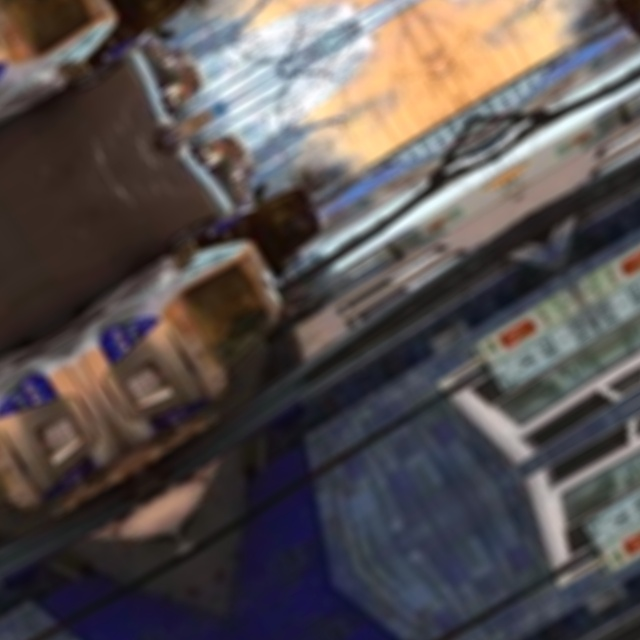ISA: (501, 319, 536, 347), (621, 247, 640, 275), (624, 525, 640, 554)
